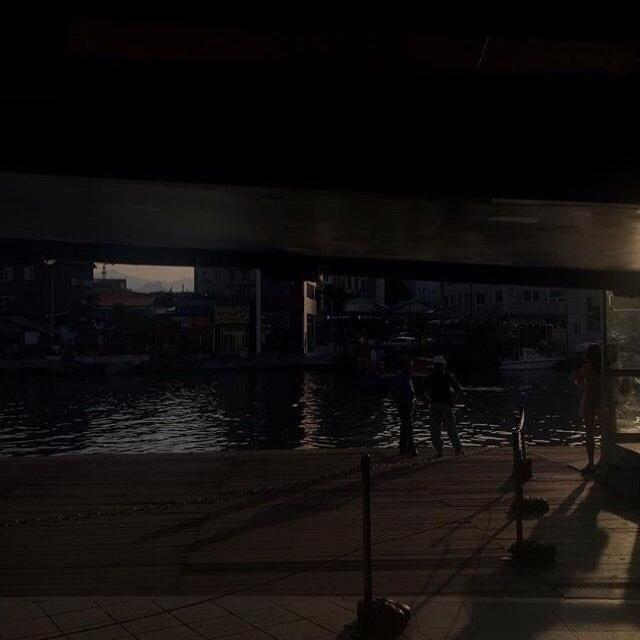on: (627, 224, 640, 352)
